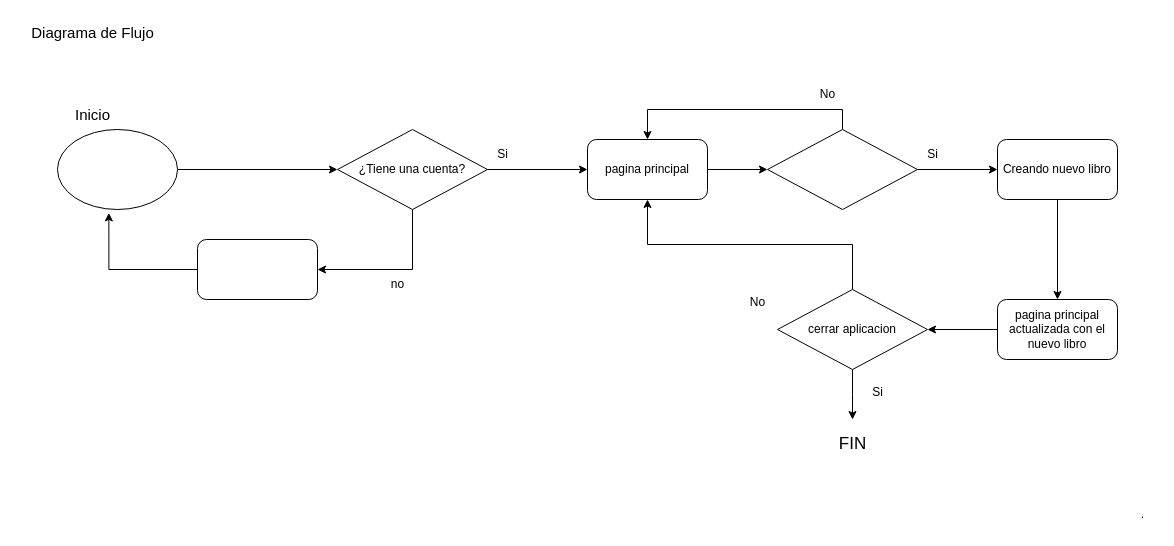
Some shapes in this 1174 by 546 pixel diagram are drawn without their labels. Each missing label, with the box of its shape:
Iniciar Sesion: (56, 128, 178, 210)
registrando usuario: (196, 238, 318, 300)
¿Crear un nuevo libro?: (766, 128, 918, 210)
